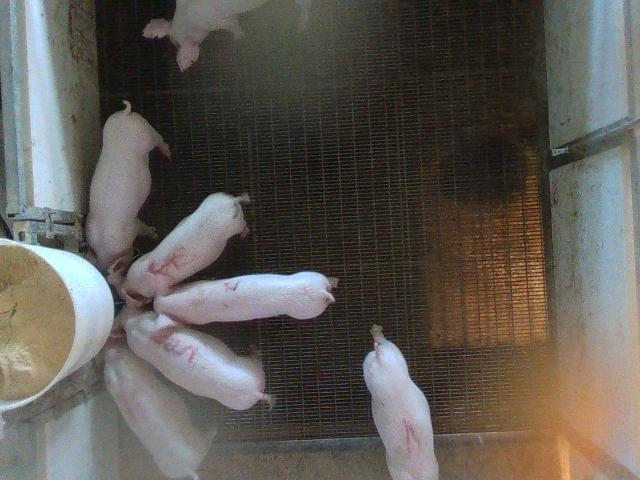pig-1: (364, 325, 439, 479)
pig-3: (111, 280, 270, 410)
pig-4: (104, 338, 210, 478)
pig-5: (109, 195, 250, 303)
